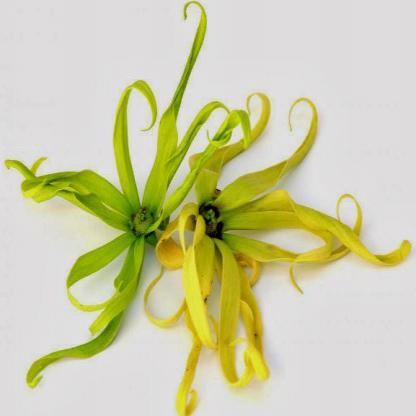Kenanga: (181, 130, 311, 351), (73, 108, 176, 298)
